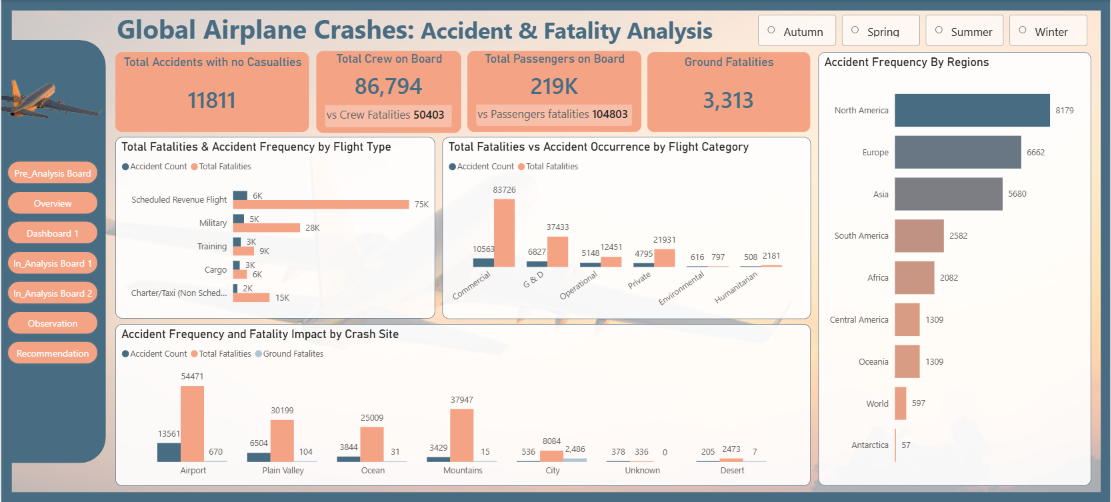

The page's visual inventory and layout, read from the dashboard file:
{"tool":"powerbi","page":{"name":"Dashboard 2","canvas":[1590,720],"ordinal":4},"visuals":[{"type":"image","box":[0,0,1589.8,720],"z":1000},{"type":"shape","box":[0,0,1589.8,720],"z":2000},{"type":"group","id":"g1","title":"Group 1","box":[0,56.9,163.2,606.2],"z":2500},{"type":"advancedSlicerVisual","fields":{"Values":["Dim_date.Season"]},"box":[1079.1,15.7,482.3,55.8],"z":3000},{"type":"shape","box":[0,56.9,149.8,606.2],"z":3000,"group":"g1"},{"type":"clusteredBarChart","title":"Total Fatalities & Accident Frequency by Flight Type","fields":{"Category":["Dim_FlightDetails.Flight Type"],"Y":["CountNonNull(Dim_FlightDetails.Accident_Code)","Sum(Fact_Table.Total Fatalities)"]},"box":[163.2,196.1,458,260],"z":4000},{"type":"clusteredColumnChart","title":"Accident Frequency and Fatality Impact by Crash Site","fields":{"Category":["Fact_Table.Crash Site"],"Y":["CountNonNull(Fact_Table.Accident_Code)","Sum(Fact_Table.Total Fatalities)","Sum(Fact_Table.Other_fatalites)"]},"box":[163.2,463.7,996.1,231.8],"z":5000},{"type":"barChart","title":"Accident Frequency By Regions","fields":{"Category":["Dim_Location.Region"],"Y":["CountNonNull(Fact_Table.Accident_Code)"]},"box":[1170.7,74.4,390.7,621.1],"z":6000},{"type":"clusteredColumnChart","title":"Total Fatalities vs Accident Occurrence by Flight Category","fields":{"Category":["Dim_FlightDetails.Flight Category"],"Y":["CountNonNull(Dim_FlightDetails.Accident_Code)","Sum(Fact_Table.Total Fatalities)"]},"box":[631.1,196.1,528.1,260.5],"z":7000},{"type":"cardVisual","title":"Total Passengers on Board","fields":{"Data":["Sum(Fact_Table.Pax on Board)"]},"box":[667.5,73,249,115.9],"z":8000},{"type":"cardVisual","title":"Total Crew on Board","fields":{"Data":["Sum(Fact_Table.Crew on Board)"]},"box":[450.8,73,207.5,117.4],"z":9000},{"type":"textbox","box":[160.3,10,871.6,77.3],"z":10000},{"type":"pageNavigator","box":[8.6,230.4,130.2,296.2],"z":11000},{"type":"cardVisual","title":"Total Accidents with no Casualties","fields":{"Data":["CountNonNull(Fact_Table.Accident_Code)"]},"box":[163.2,74.4,277.6,114.5],"z":12000},{"type":"cardVisual","title":"Ground Fatalities","fields":{"Data":["Sum(Fact_Table.Other_fatalites)"]},"box":[925.9,74.4,233.3,114.5],"z":13000},{"type":"image","box":[0,93,163.2,95.9],"z":14000,"group":"g1"}]}

Visuals, with their boxes in screenshot pixels (x1, y1, x2, y2), scaled from the page's 1590x720 canvas onto the 1111x502 screenshot:
image: x1=0 y1=0 x2=1110 y2=501
shape: x1=0 y1=0 x2=1110 y2=501
"Group 1" group: x1=0 y1=40 x2=114 y2=462
advancedSlicerVisual - Dim_date.Season: x1=754 y1=11 x2=1091 y2=50
shape: x1=0 y1=40 x2=105 y2=462
"Total Fatalities & Accident Frequency by Flight Type" clusteredBarChart: x1=114 y1=137 x2=434 y2=318
"Accident Frequency and Fatality Impact by Crash Site" clusteredColumnChart: x1=114 y1=323 x2=810 y2=485
"Accident Frequency By Regions" barChart: x1=818 y1=52 x2=1091 y2=485
"Total Fatalities vs Accident Occurrence by Flight Category" clusteredColumnChart: x1=441 y1=137 x2=810 y2=318
"Total Passengers on Board" cardVisual: x1=466 y1=51 x2=640 y2=132
"Total Crew on Board" cardVisual: x1=315 y1=51 x2=460 y2=133
textbox: x1=112 y1=7 x2=721 y2=61
pageNavigator: x1=6 y1=161 x2=97 y2=367
"Total Accidents with no Casualties" cardVisual: x1=114 y1=52 x2=308 y2=132
"Ground Fatalities" cardVisual: x1=647 y1=52 x2=810 y2=132
image: x1=0 y1=65 x2=114 y2=132
